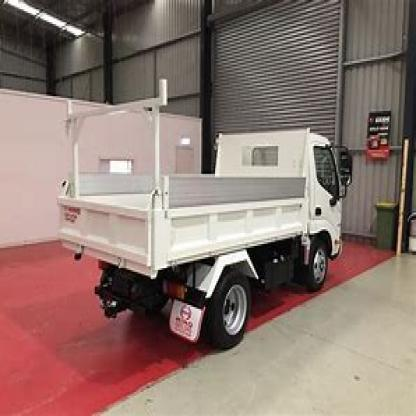dump_truck: (60, 102, 371, 348)
